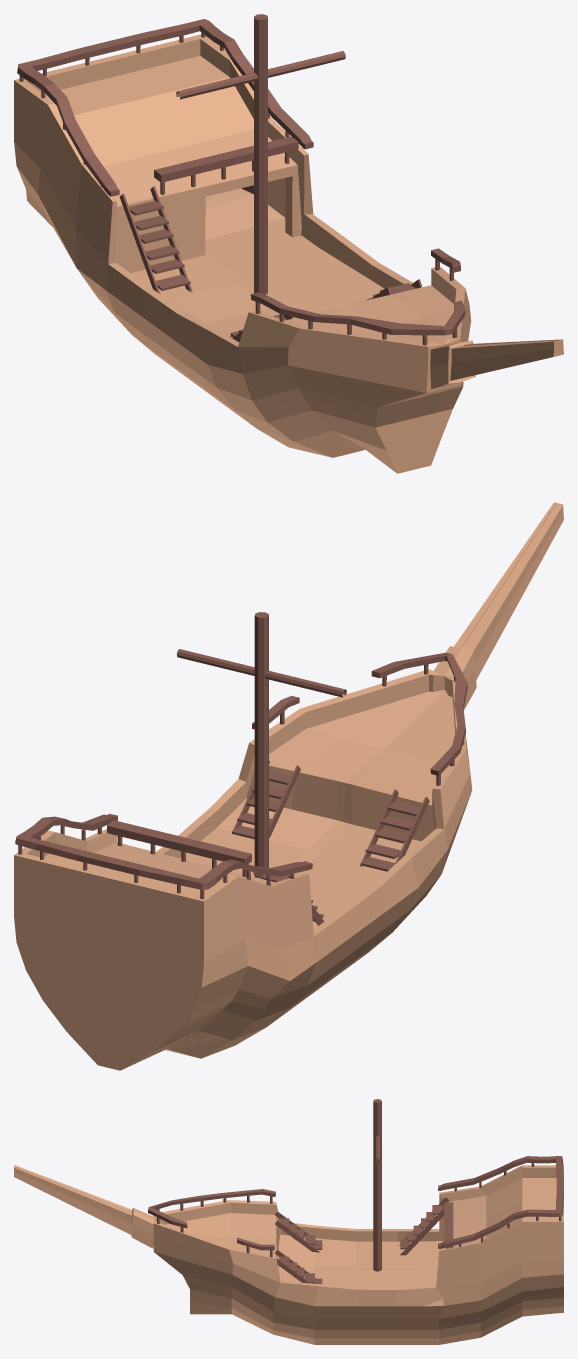
Rendered from Ship4.glb.
3 renders of one model, top to bottom at view 1: azimuth 30°, elevation 25°; view 2: azimuth 150°, elevation 25°; view 3: azimuth 270°, elevation 25°, orthographic. The views are drawn at different scales.
Visible parts, largest first — view 1: body1; view 2: body1; view 3: body1.
Boxes of the visible parts, box(x1,y1,x2,y2) form: body1: box(14, 14, 563, 473); body1: box(14, 502, 563, 1070); body1: box(14, 1099, 563, 1344).
Size of what is drawn, in the model's own units: 10.06 by 17.59 by 37.02.
Materials: 3 (2 with a texture image).
